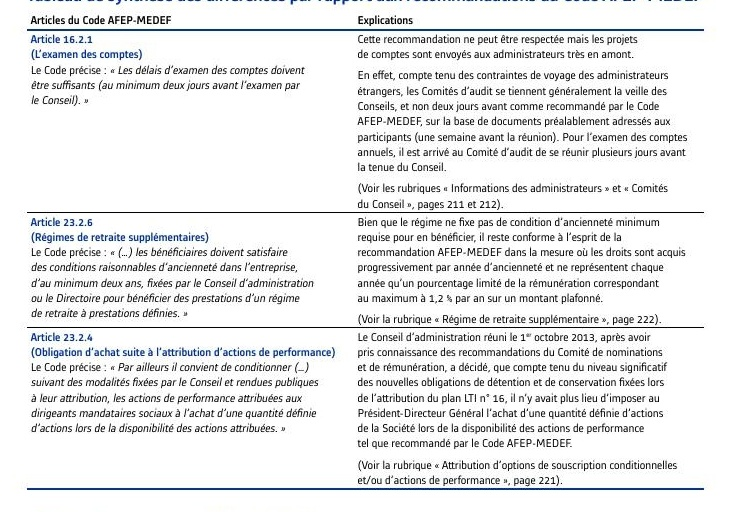table: (0, 0, 729, 512)
